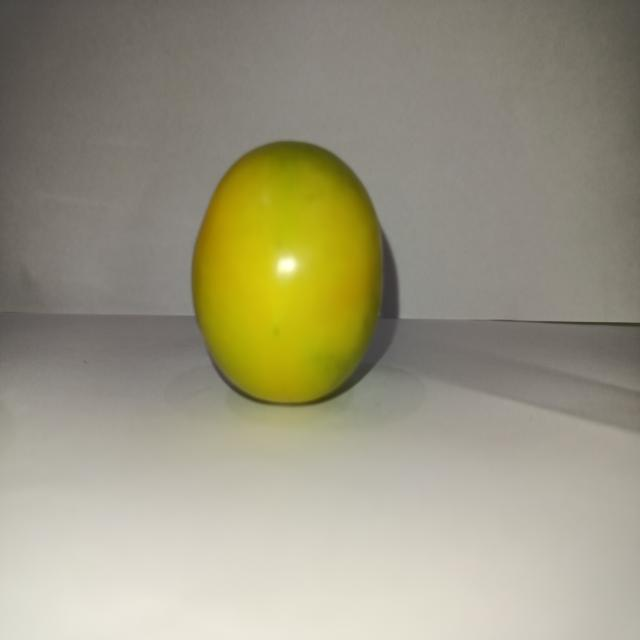Red: (189, 138, 385, 406)
